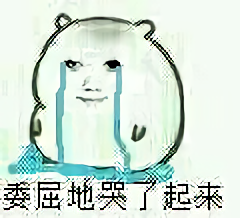dragon: (65, 57, 119, 105)
